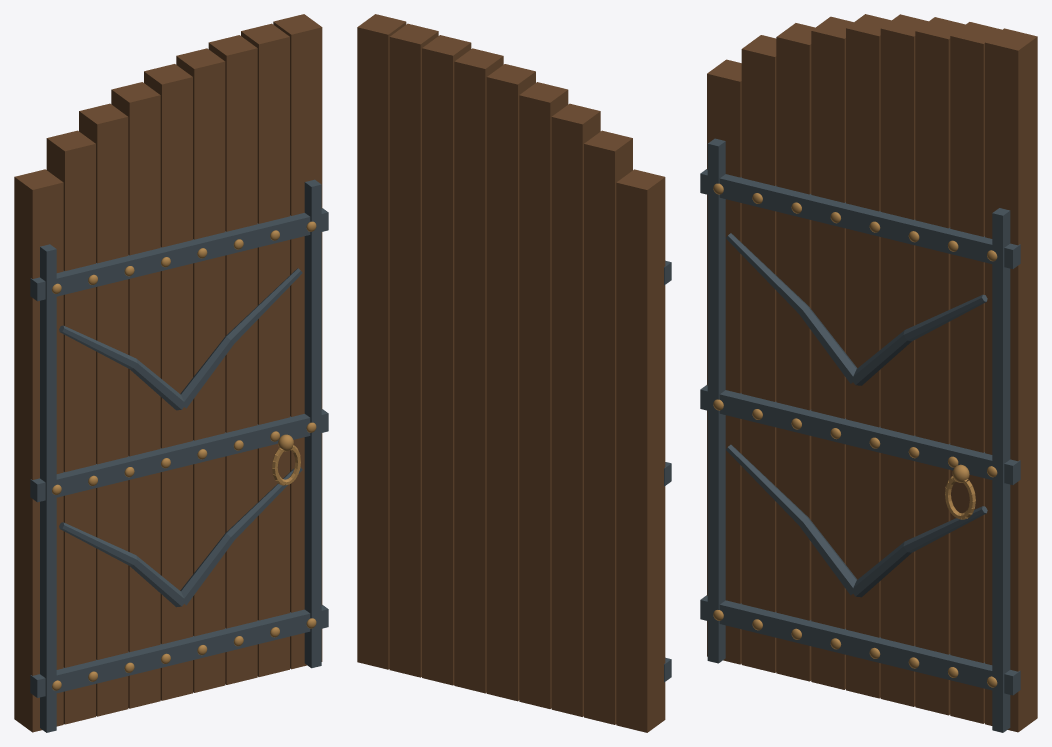
File: gate.glb
3 views of the same model, side by side, from view 1: azimuth 30°, elevation 25°; view 2: azimuth 150°, elevation 25°; view 3: azimuth 330°, elevation 25° (orthographic). The views are drawn at different scales.
Visible parts, largest first — view 1: GateLeaf; view 2: GateLeaf; view 3: GateLeaf.
Part boxes in pixels (<box>): GateLeaf: <box>14,14,328,732</box>; GateLeaf: <box>357,14,671,732</box>; GateLeaf: <box>700,14,1037,732</box>.
Size of the model in its own units: 2.88 by 6 by 0.5177.
